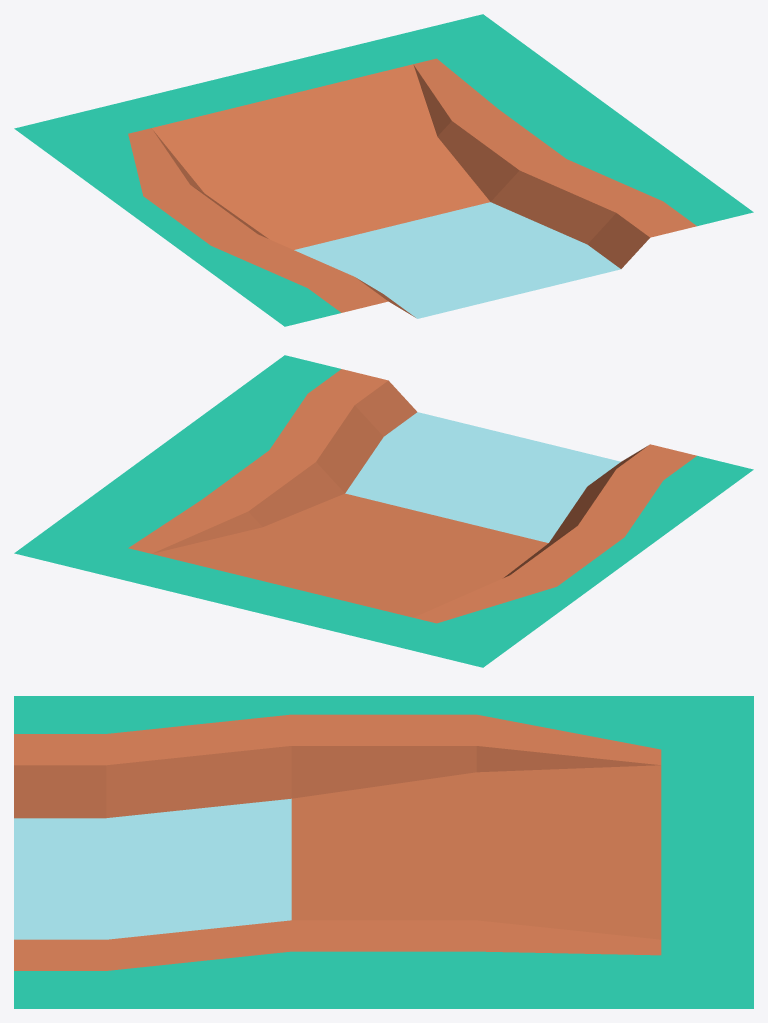
The model's file is ground_riverEnd.glb.
The picture shows the model from 3 angles, top to bottom: view 1: azimuth 30°, elevation 25°; view 2: azimuth 150°, elevation 25°; view 3: azimuth 270°, elevation 25°; orthographic projection. The views are drawn at different scales.
Visible parts, largest first — view 1: ground_riverEnd; view 2: ground_riverEnd; view 3: ground_riverEnd.
Boxes of the visible parts, x1,y1,x2,y2 form: ground_riverEnd: [14, 14, 753, 326]; ground_riverEnd: [14, 355, 753, 667]; ground_riverEnd: [14, 696, 753, 1008].
Bounding box in the file's own units: 1 × 0.05 × 1.
